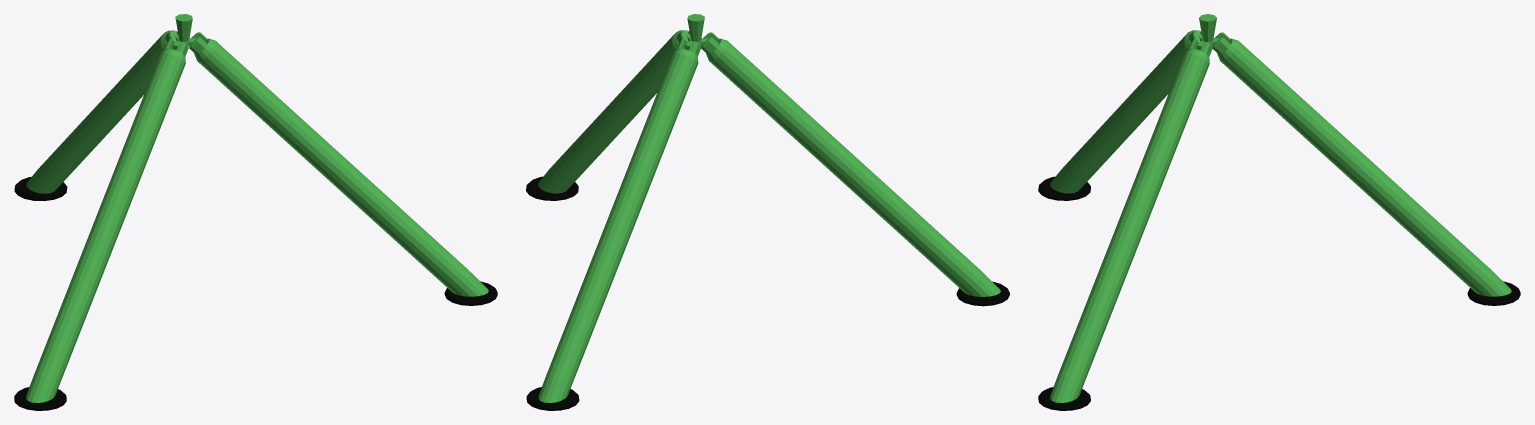
Rendered from lvl1_base.glb.
3 views of the same model, side by side, from view 1: azimuth 30°, elevation 25°; view 2: azimuth 150°, elevation 25°; view 3: azimuth 270°, elevation 25° (orthographic).
Parts seen in each view (by area): view 1: Base; view 2: Base; view 3: Base.
Part boxes in pixels (x1,y1,x2,y2): Base: [14, 14, 497, 410]; Base: [526, 14, 1009, 410]; Base: [1038, 14, 1520, 410].
Bounding box in the file's own units: 1.99 × 1.11 × 1.75.
Materials: 1 (1 with a texture image).
